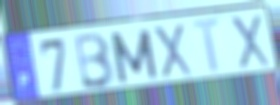7: (37, 39, 70, 94)
B: (73, 30, 117, 91)
M: (108, 27, 161, 85)
T: (189, 15, 226, 77)
X: (151, 22, 195, 81), (228, 13, 272, 71)
